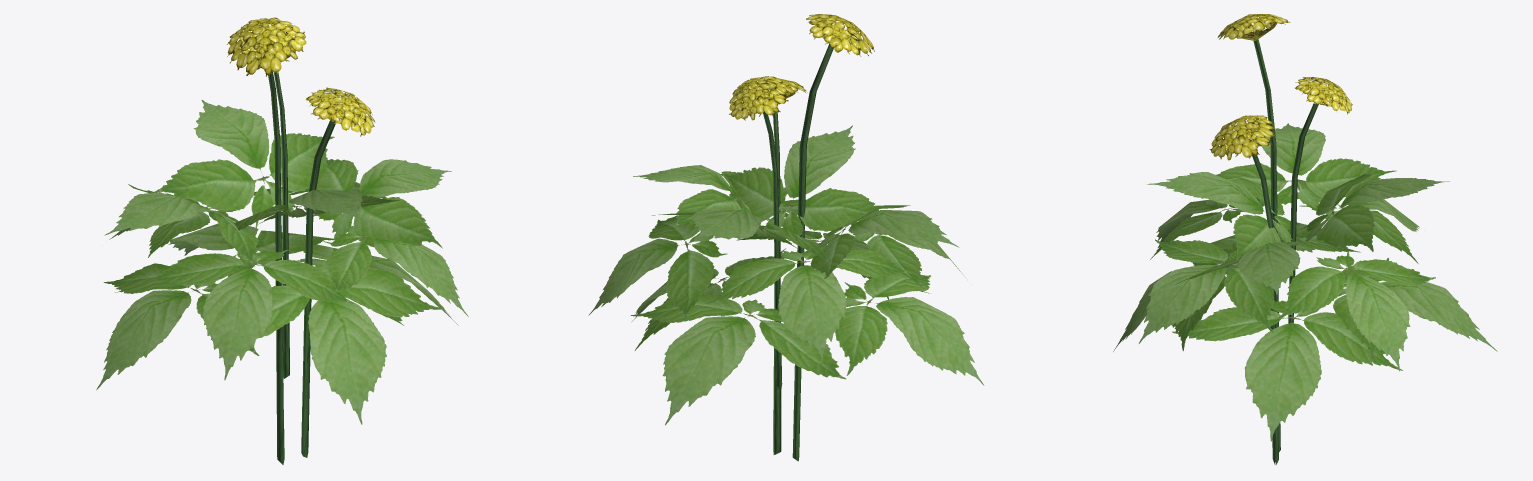
The model's file is Ginseng.obj.
3 renders of one model, left to right at view 1: azimuth 30°, elevation 25°; view 2: azimuth 150°, elevation 25°; view 3: azimuth 270°, elevation 25°, orthographic. The views are drawn at different scales.
Parts seen in each view (by area): view 1: YellowGinseng.001; view 2: YellowGinseng.001; view 3: YellowGinseng.001.
Part boxes in pixels (x1=…): YellowGinseng.001: x1=96, y1=17, x2=468, y2=464; YellowGinseng.001: x1=588, y1=14, x2=984, y2=461; YellowGinseng.001: x1=1113, y1=14, x2=1497, y2=464.
Size of the model in its own units: 0.6319 by 0.6665 by 0.6326.
